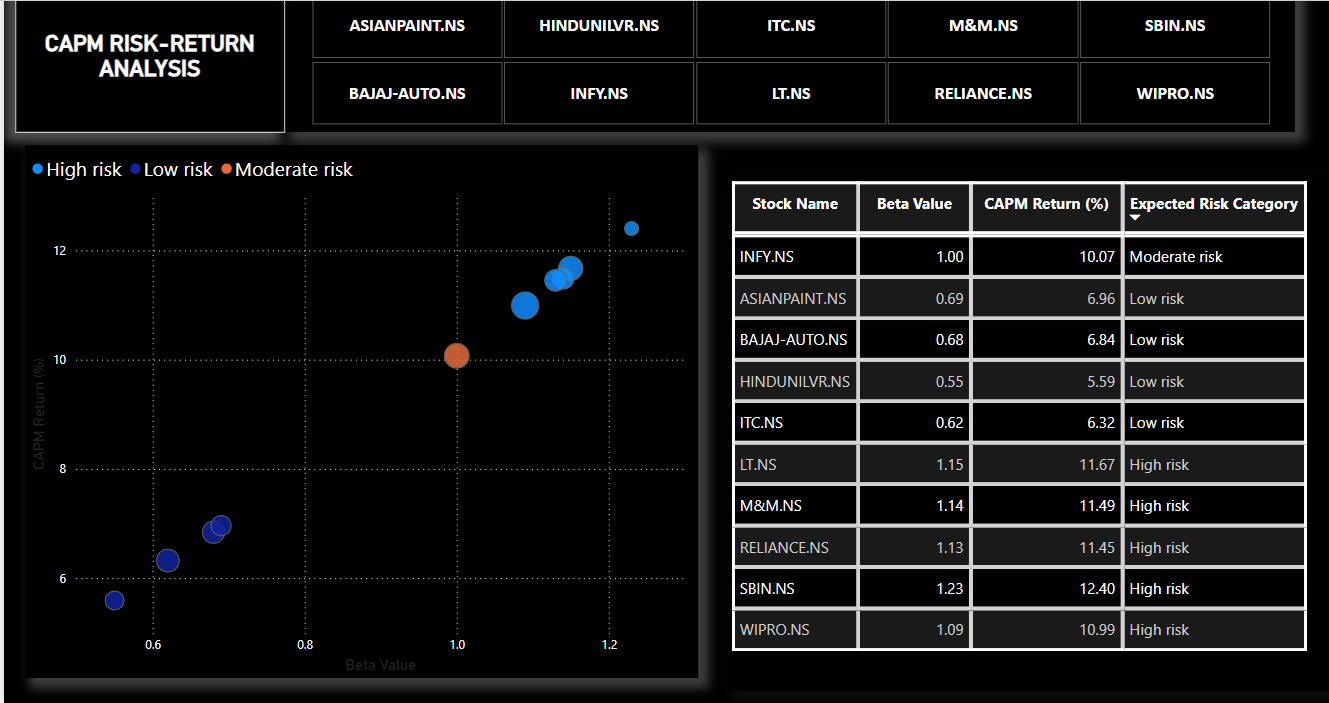

The dashboard page shown, as its layout file describes it:
{"tool":"powerbi","page":{"name":"Capm risk-return analysis","canvas":[1280,720],"ordinal":0},"visuals":[{"type":"textbox","box":[11.3,27.4,259.7,138.7],"z":0},{"type":"slicer","fields":{"Values":["Analysis.Stock Name"]},"box":[271.1,26.9,974.7,139.2],"z":1000},{"type":"scatterChart","fields":{"X":["Analysis.Beta Value"],"Y":["Analysis.CAPM Return (%)"],"Size":["Sum(Analysis.CAGR Return (%))"],"Series":["Analysis.Expected Risk Category"]},"box":[20.8,178.3,649.8,514.2],"z":2000},{"type":"tableEx","fields":{"Values":["Analysis.Stock Name","Analysis.Beta Value","Analysis.CAPM Return (%)","Analysis.Expected Risk Category"]},"box":[696.2,208.9,583.8,497.1],"z":3000}]}

Visuals, with their boxes on the page's 1280x720 design canvas (x1, y1, x2, y2). These are canvas units, not pixel positions in the 1329x703 screenshot, which may show the page scaled, cropped or inside an application window:
textbox: [11, 27, 271, 166]
slicer - Analysis.Stock Name: [271, 27, 1246, 166]
scatterChart - Analysis.Beta Value x Analysis.CAPM Return (%): [21, 178, 671, 692]
tableEx - Analysis.Stock Name x Analysis.Beta Value: [696, 209, 1280, 706]
